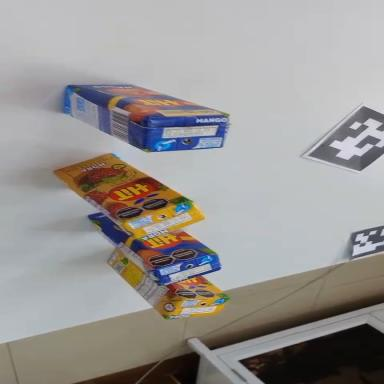HIT-MANGO: (54, 66, 232, 173), (78, 183, 226, 308)
HIT-MORA: (45, 133, 208, 263), (96, 246, 232, 335)
cara_F: (48, 132, 190, 247), (66, 65, 228, 139), (79, 209, 219, 280), (169, 274, 229, 300)
